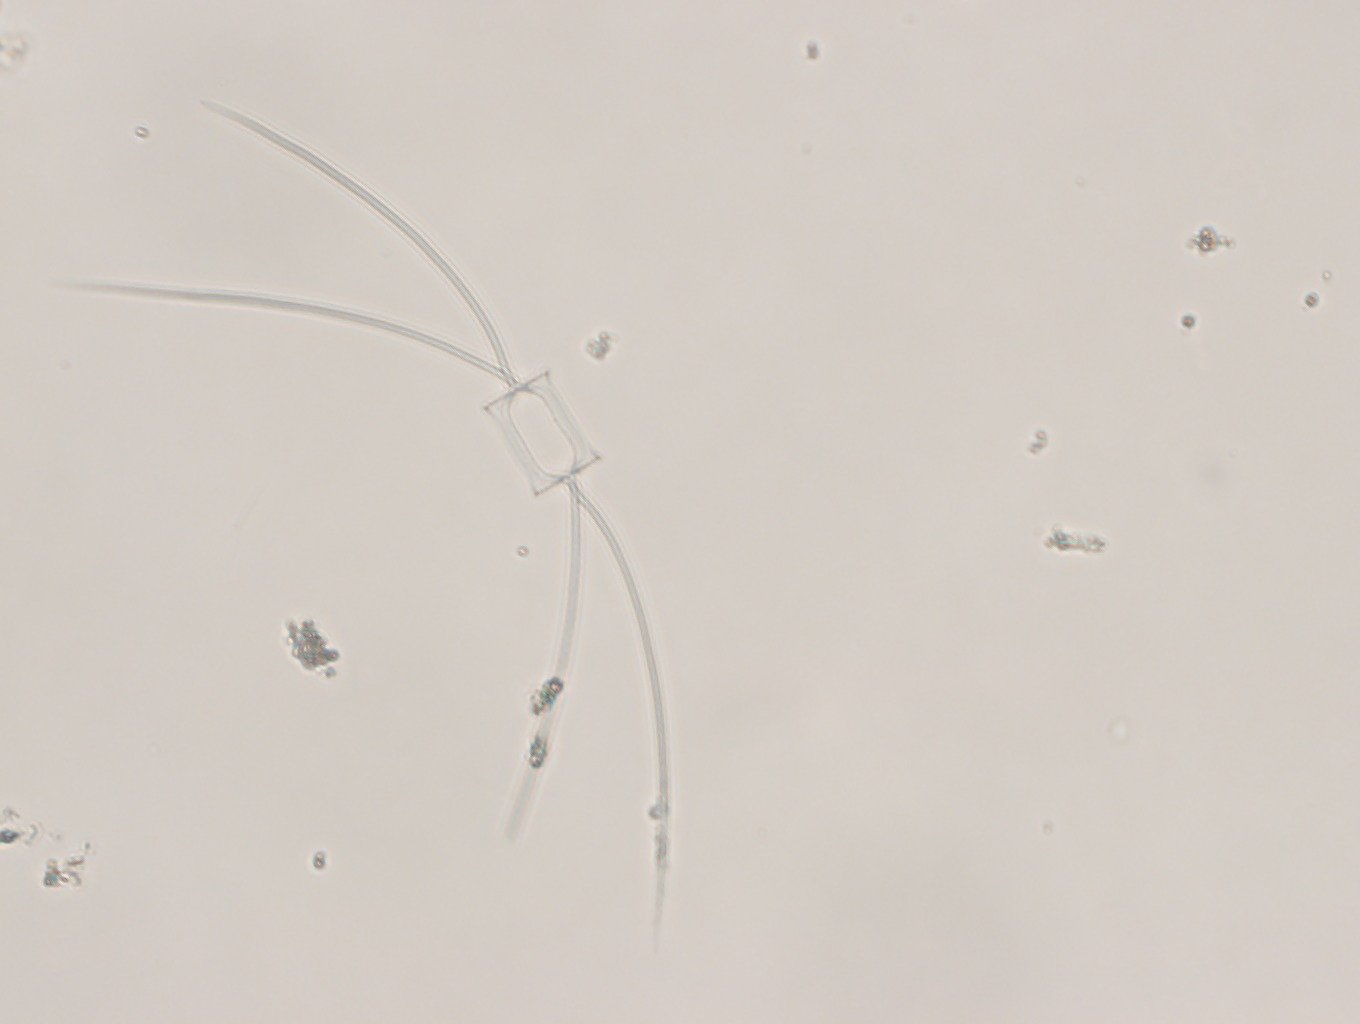chaetoceros: (70, 83, 691, 926)
